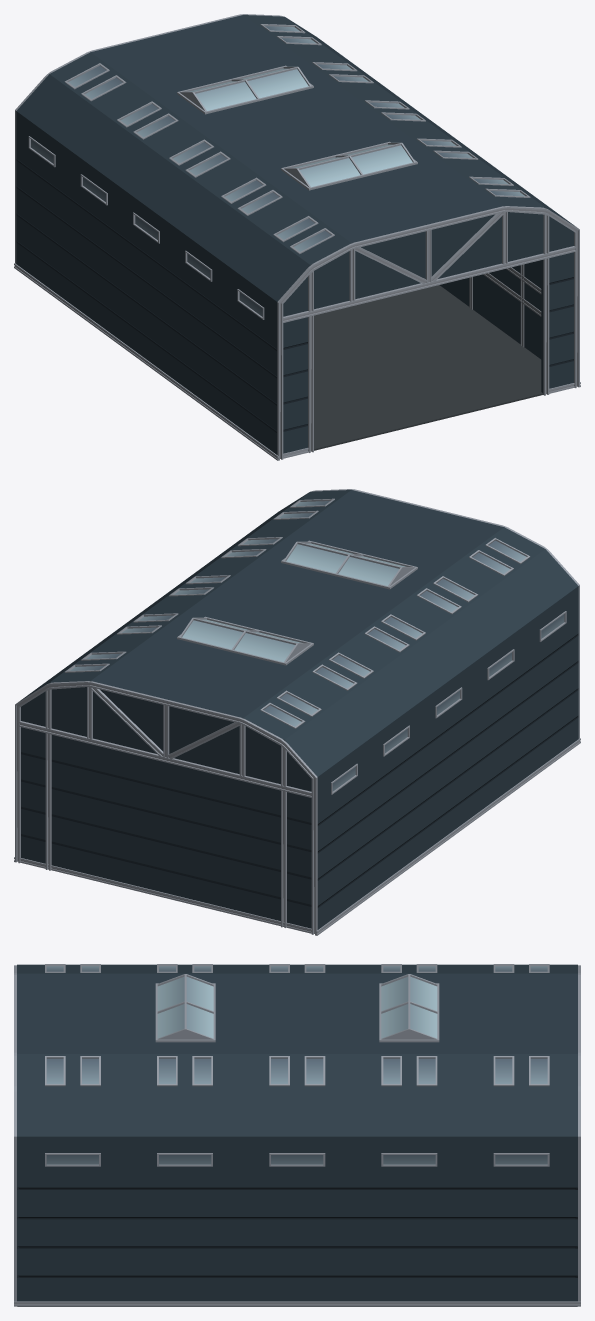
File: SM_Buildings_Port_01.fbx
The picture shows the model from 3 angles, top to bottom: view 1: azimuth 30°, elevation 25°; view 2: azimuth 150°, elevation 25°; view 3: azimuth 270°, elevation 25°; orthographic projection. The views are drawn at different scales.
Visible parts, largest first — view 1: SM_Buildings_Port_01; view 2: SM_Buildings_Port_01; view 3: SM_Buildings_Port_01.
Boxes of the visible parts, box(x1,y1,x2,y2) form: SM_Buildings_Port_01: box(14, 14, 580, 460); SM_Buildings_Port_01: box(14, 489, 580, 935); SM_Buildings_Port_01: box(14, 964, 580, 1306).
Bounding box in the file's own units: 10.07 × 6.66 × 15.16.
